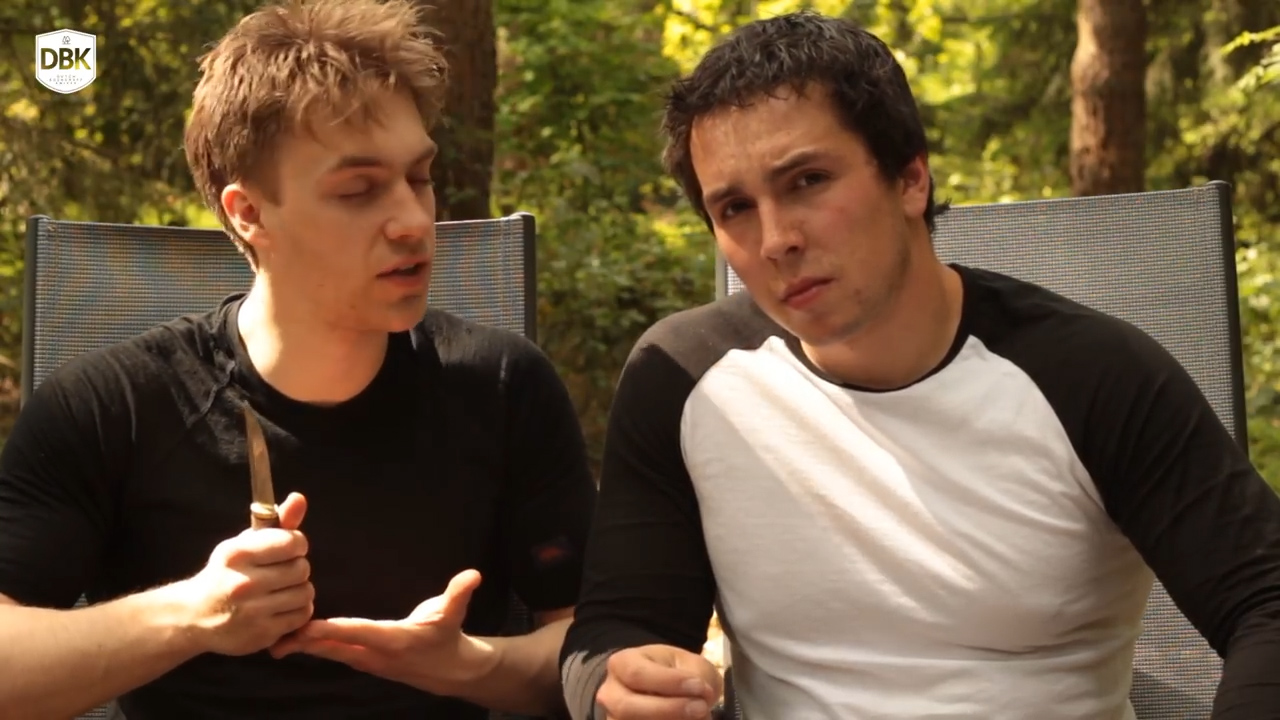knife: (180, 366, 335, 609)
